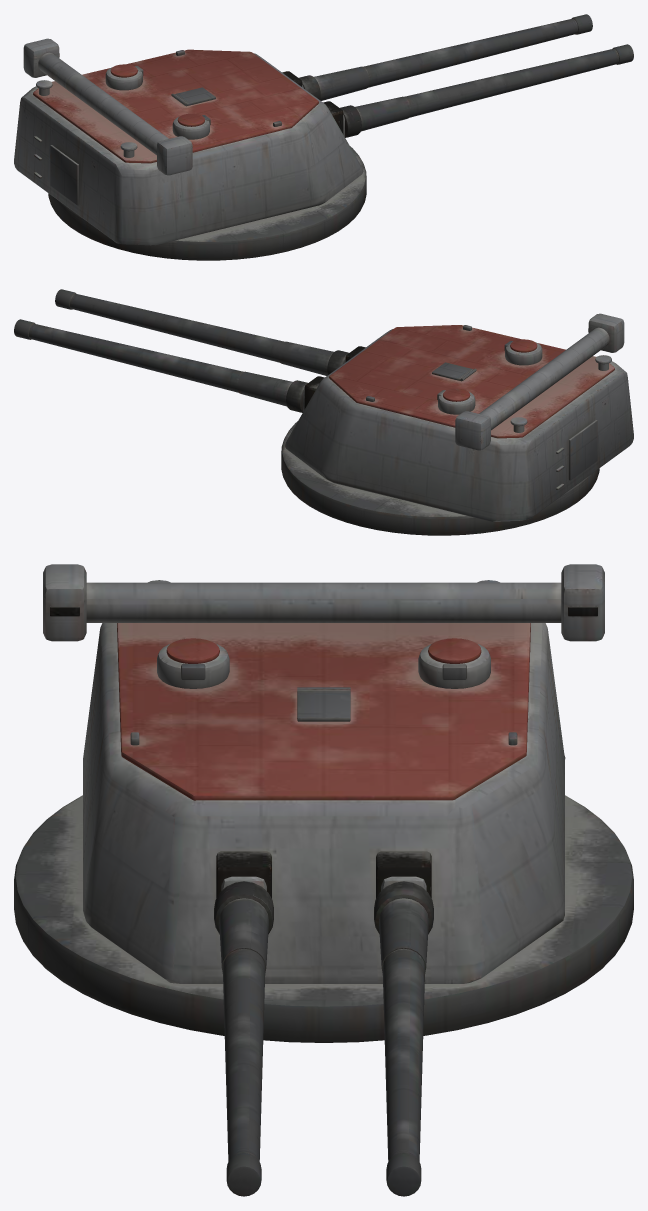
File: fh_battle_e_lev_turret.glb
3 renders of one model, top to bottom at view 1: azimuth 30°, elevation 25°; view 2: azimuth 150°, elevation 25°; view 3: azimuth 270°, elevation 25°, orthographic. The views are drawn at different scales.
Visible parts, largest first — view 1: turret, guns; view 2: turret, guns; view 3: turret, guns.
Boxes of the visible parts, bbox=[...] form: turret: bbox=[14, 38, 366, 260]; guns: bbox=[299, 14, 633, 137]; turret: bbox=[281, 313, 633, 535]; guns: bbox=[14, 289, 348, 412]; turret: bbox=[14, 564, 633, 1042]; guns: bbox=[214, 876, 433, 1196].
Size of the model in its own units: 0.9773 by 0.2154 by 0.4923.
Materials: 1 (1 with a texture image).
